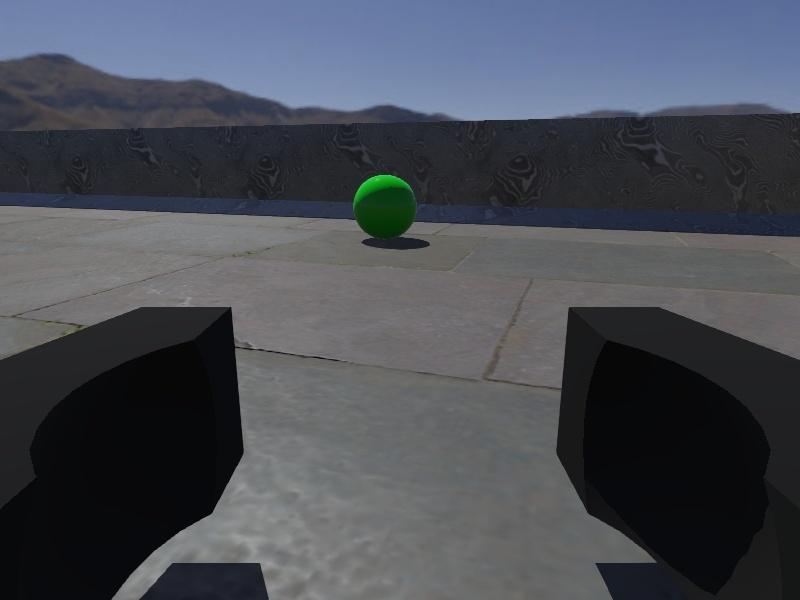green ball: (352, 173, 418, 241)
